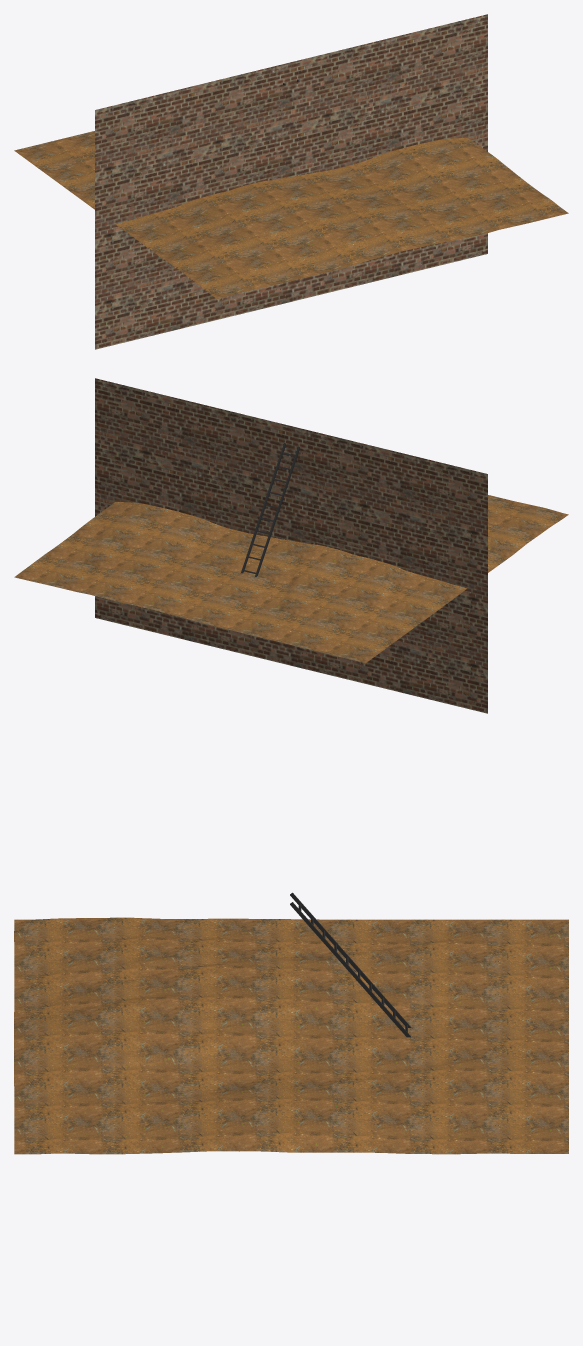
File: ladder-2-transformed.glb
3 views of the same model, one above another, from view 1: azimuth 30°, elevation 25°; view 2: azimuth 150°, elevation 25°; view 3: azimuth 270°, elevation 25° (orthographic). The views are drawn at different scales.
Parts seen in each view (by area): view 1: Plane.001, Plane; view 2: Plane.001, Plane, Ladders.018; view 3: Plane, Ladders.018.
Part boxes in pixels (x1,y1,x2,y2): Plane.001: [95, 14, 487, 349]; Plane: [14, 131, 568, 299]; Plane.001: [95, 378, 487, 713]; Plane: [14, 495, 568, 663]; Ladders.018: [241, 443, 299, 576]; Plane: [14, 917, 568, 1154]; Ladders.018: [290, 892, 411, 1037].
Bounding box in the file's own units: 55.3 × 32.22 × 49.52.
7 materials, 5 textured.
